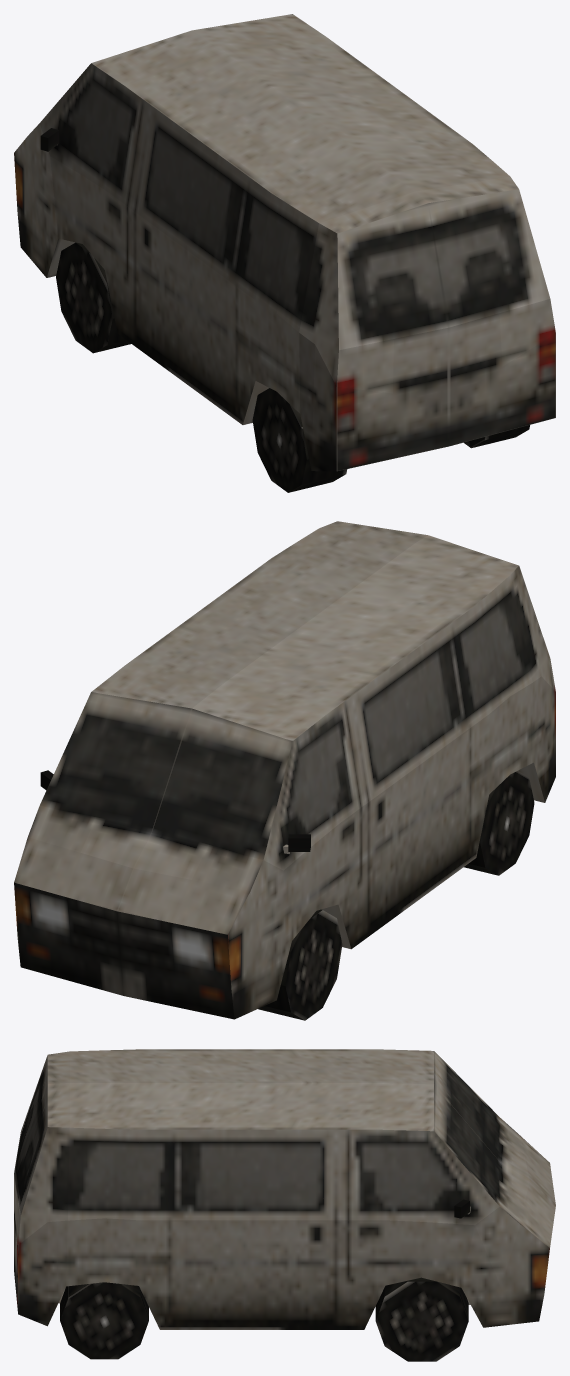
The model's file is Van_1.fbx.
3 views of the same model, one above another, from view 1: azimuth 30°, elevation 25°; view 2: azimuth 150°, elevation 25°; view 3: azimuth 270°, elevation 25° (orthographic). The views are drawn at different scales.
Parts seen in each view (by area): view 1: Van_1; view 2: Van_1; view 3: Van_1.
Part boxes in pixels (x1=…): Van_1: x1=14, y1=14, x2=555, y2=492; Van_1: x1=14, y1=521, x2=555, y2=1020; Van_1: x1=14, y1=1049, x2=555, y2=1361.
Size of the model in its own units: 285 by 288 by 607.
Materials: 1 (1 with a texture image).
